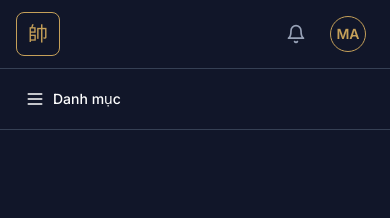
Test: CompactHeader › logged-in player › should open the user dropdown when the Avatar is clicked
Note: Radix opens a menu on the pointerdown of the main button.
Press the mouse on the button with aria-label "Menu người dùng: minh_anh" at (348, 34), box [322,12,374,56]
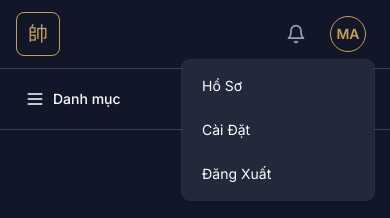
Expected: the menu items read "Hồ Sơ", "Cài Đặt", "Đăng Xuất", in this order, [202,77,242,94]; [202,121,250,138]; [202,165,271,182]
